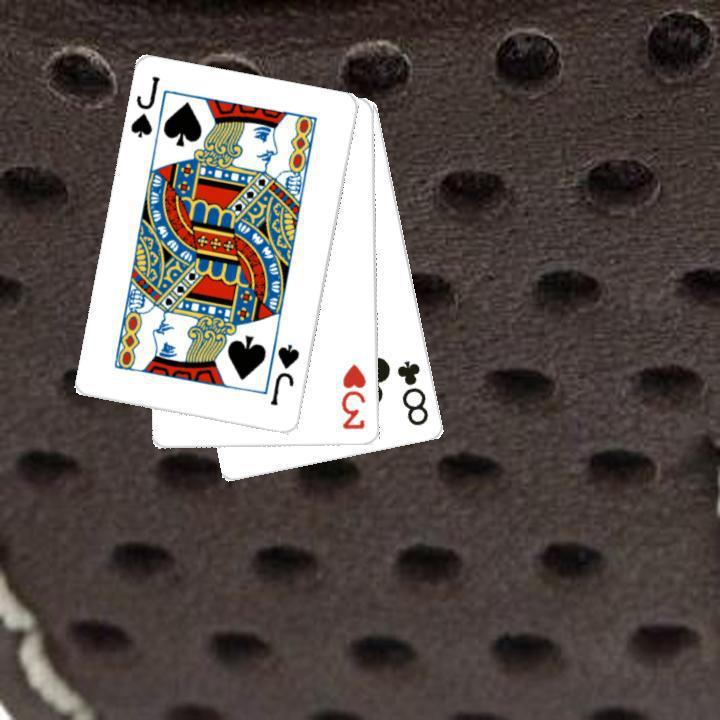3: (337, 360, 368, 432)
8: (393, 356, 431, 428)
J: (266, 340, 302, 408), (127, 72, 162, 140)
